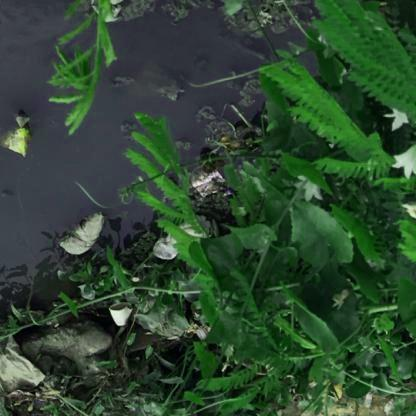Plastic: (59, 206, 104, 258), (108, 297, 135, 326)
Trash: (0, 126, 33, 159), (153, 235, 180, 262)
